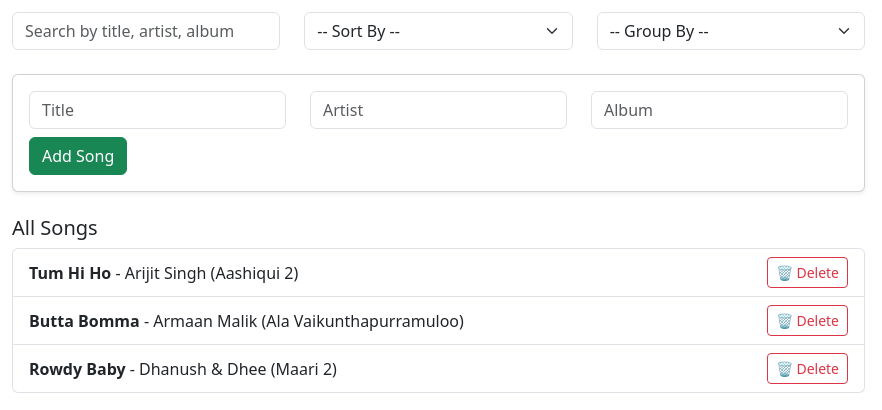
Test: SongList Component › deletes a song when delete is clicked
Click the button "🗑 Delete" in the row of "Tum Hi Ho" at (807, 272), box [767,257,848,288]
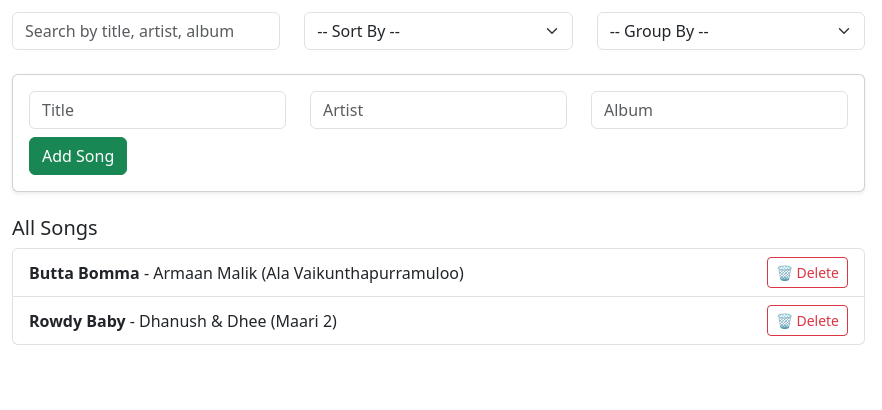
Now the text "Tum Hi Ho" is gone
